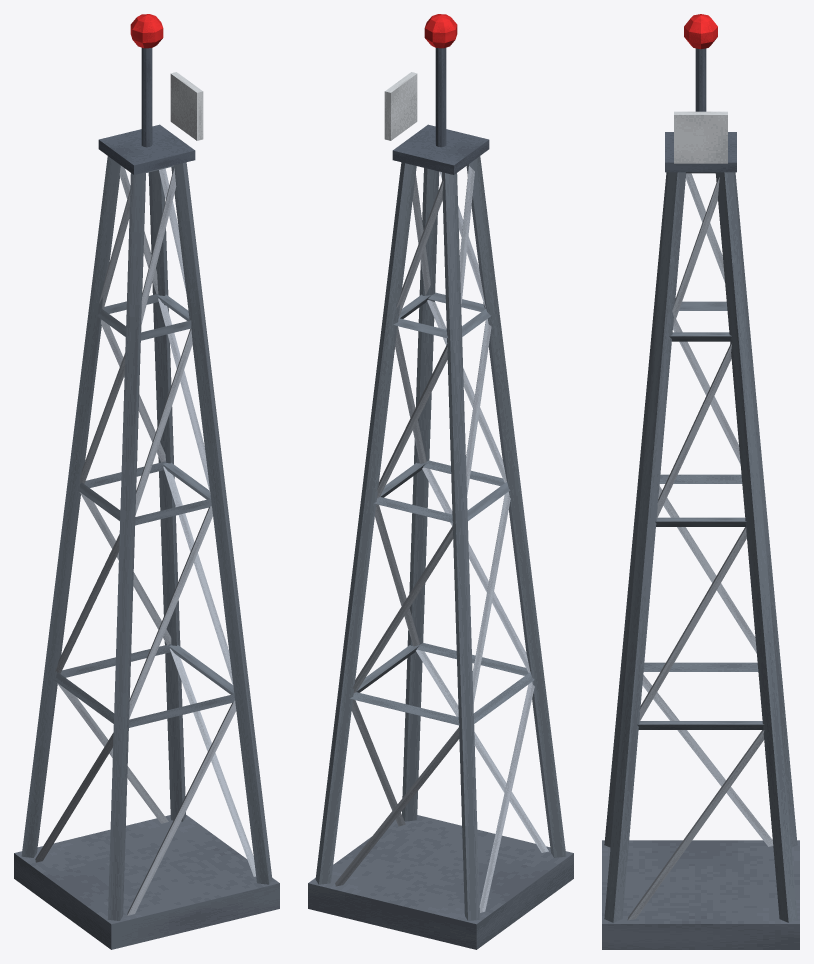
Rendered from prop_radio_tower.glb.
3 views of the same model, side by side, from view 1: azimuth 30°, elevation 25°; view 2: azimuth 150°, elevation 25°; view 3: azimuth 270°, elevation 25° (orthographic).
Parts seen in each view (by area): view 1: prop_radio_tower; view 2: prop_radio_tower; view 3: prop_radio_tower.
Boxes of the visible parts, x1,y1,x2,y2 form: prop_radio_tower: (14, 14, 279, 949); prop_radio_tower: (308, 14, 573, 949); prop_radio_tower: (602, 14, 799, 949).
Size of the model in its own units: 1.1 by 5.49 by 1.1.
Materials: 1 (1 with a texture image).
